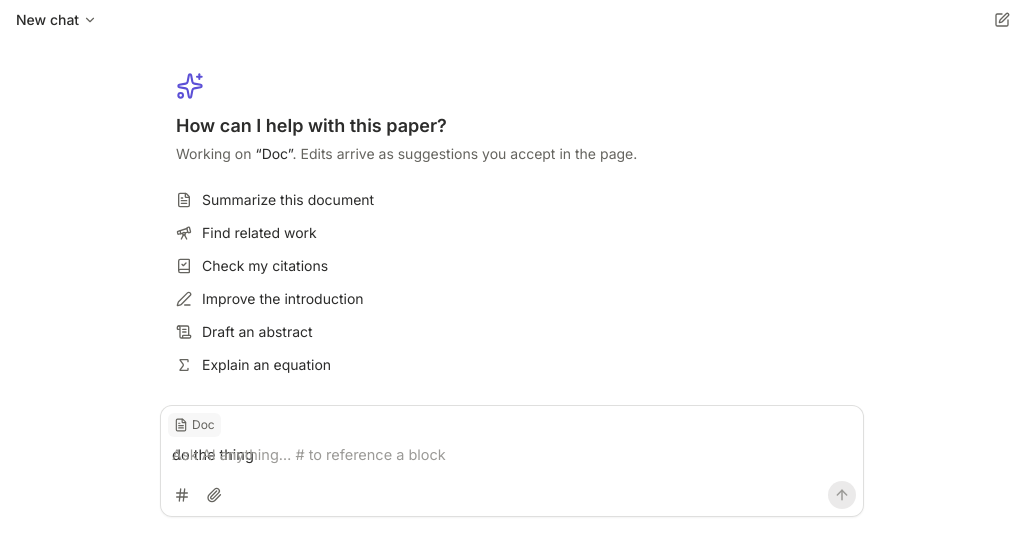
Test: proposed changes await the author › surfaces a failed edit in the chat
Clear the field at (213, 454), box [172,446,254,463]
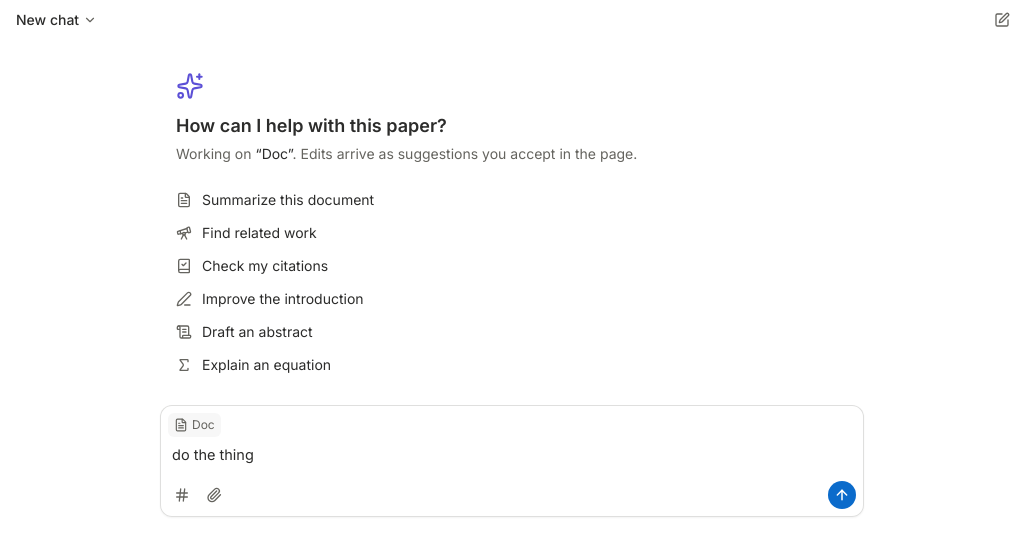
Click the button named "send message" at (842, 495), box [828,481,856,509]
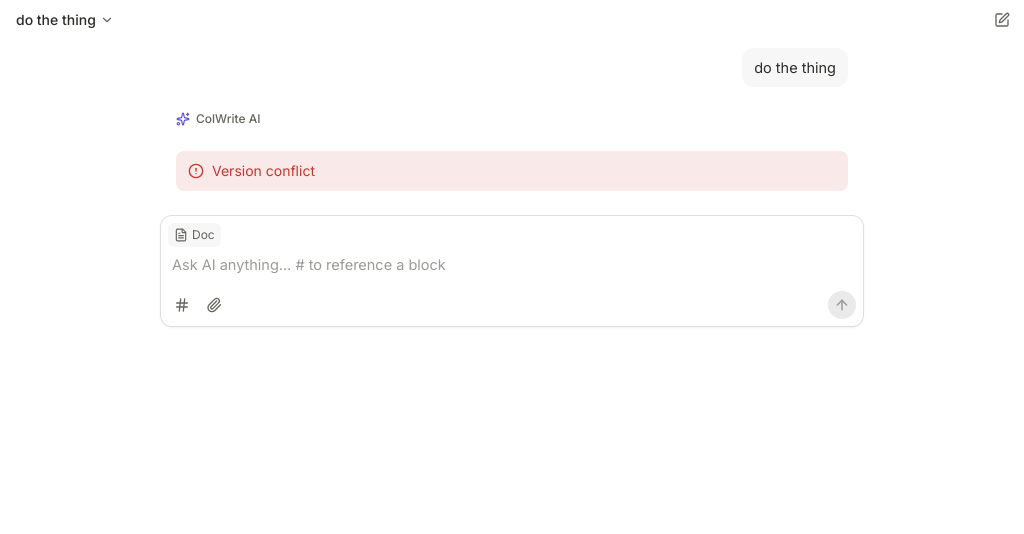
Expected: the message reads "Version conflict", [212,162,315,179]
